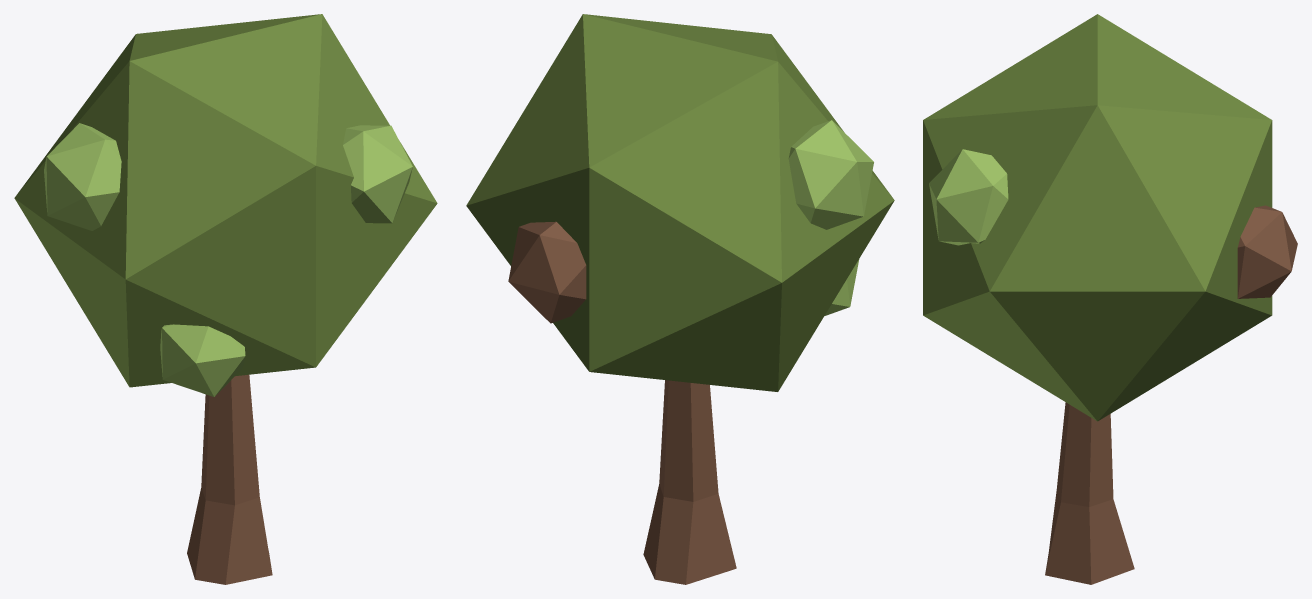
Rendered from tropical_tree_7.fbx.
The picture shows the model from 3 angles, left to right: view 1: azimuth 30°, elevation 25°; view 2: azimuth 150°, elevation 25°; view 3: azimuth 270°, elevation 25°; orthographic projection. The views are drawn at different scales.
Parts seen in each view (by area): view 1: tropical_trees_7; view 2: tropical_trees_7; view 3: tropical_trees_7.
Boxes of the visible parts, x1,y1,x2,y2 form: tropical_trees_7: (14,14,437,584); tropical_trees_7: (466,14,894,584); tropical_trees_7: (923,14,1297,584).
Size of the model in its own units: 367 by 545 by 366.
